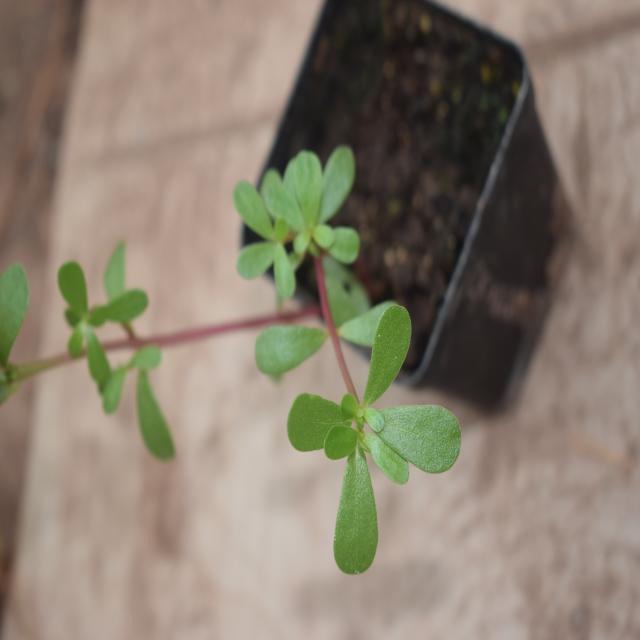purslane: (224, 131, 466, 568)
